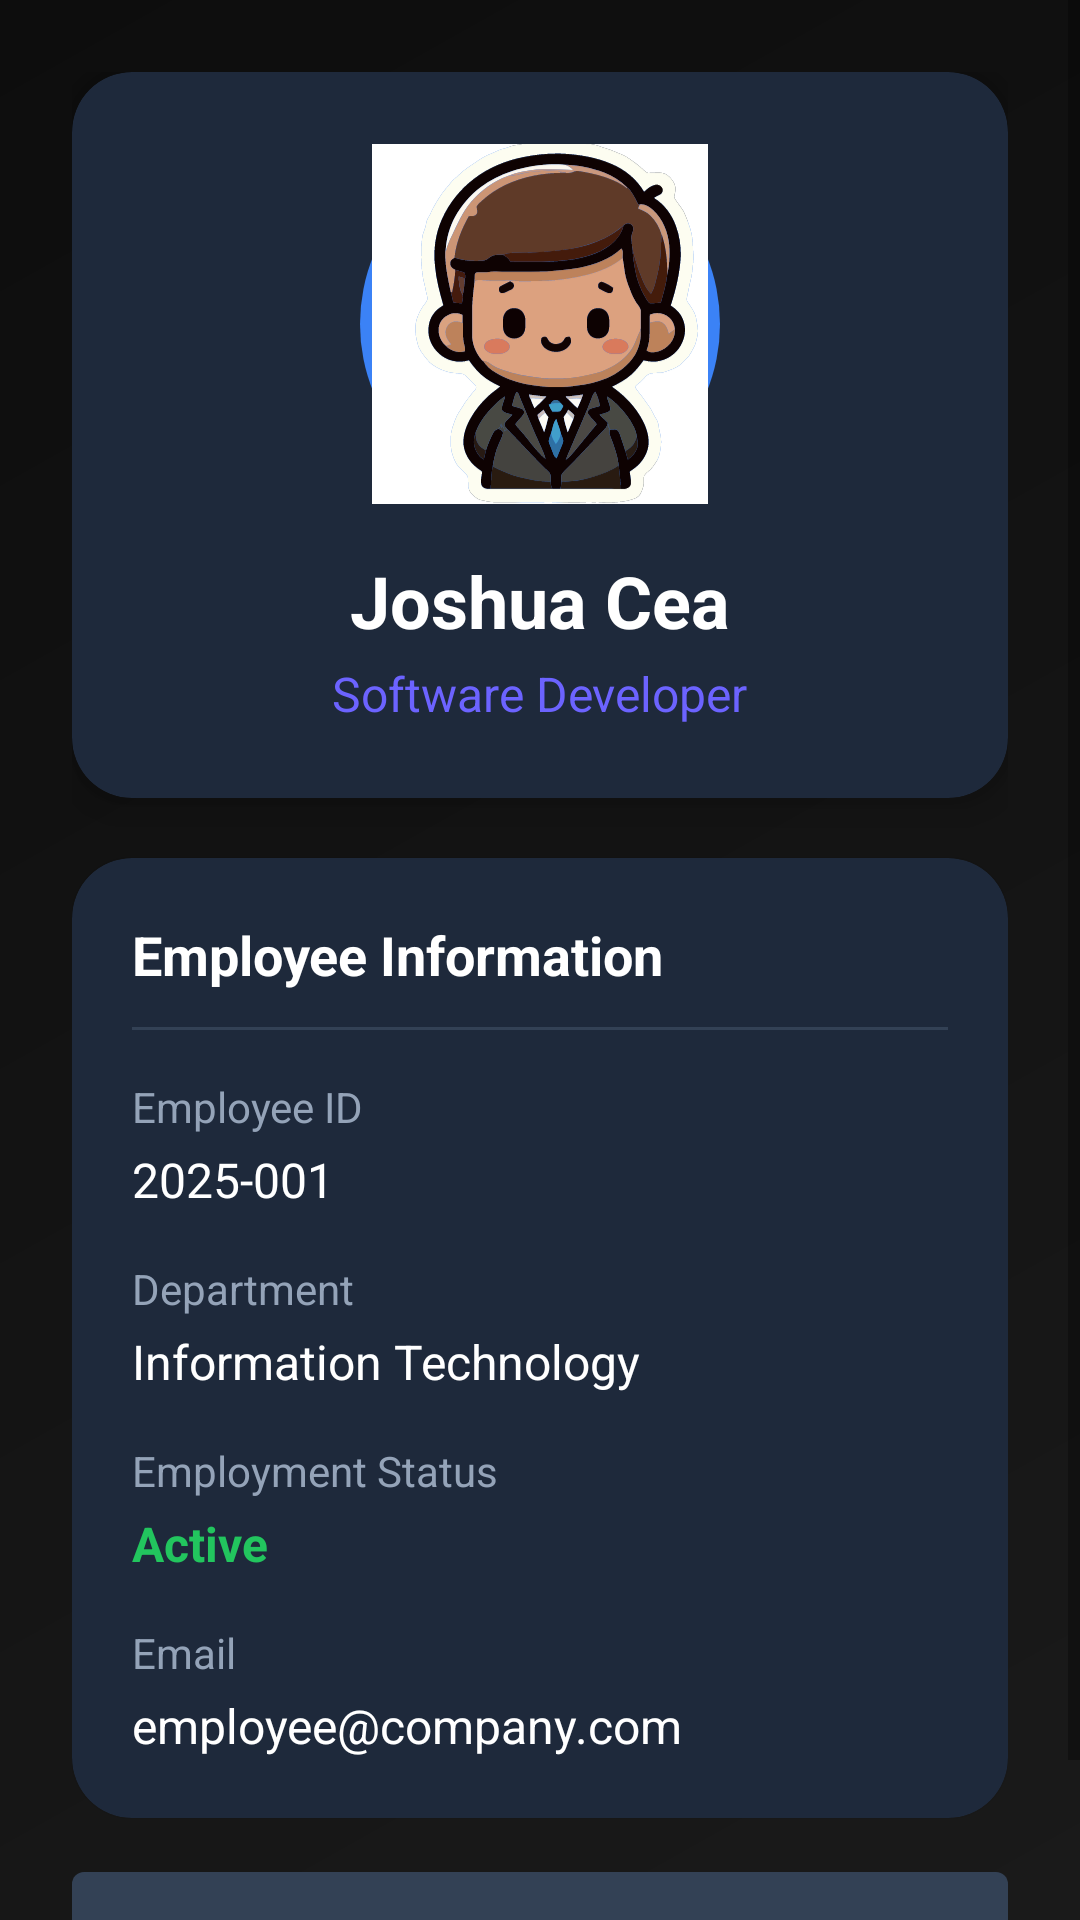

Named icons in this screenshot (1080*1920) and their centers, [x,y]:
profile: [540,324]
